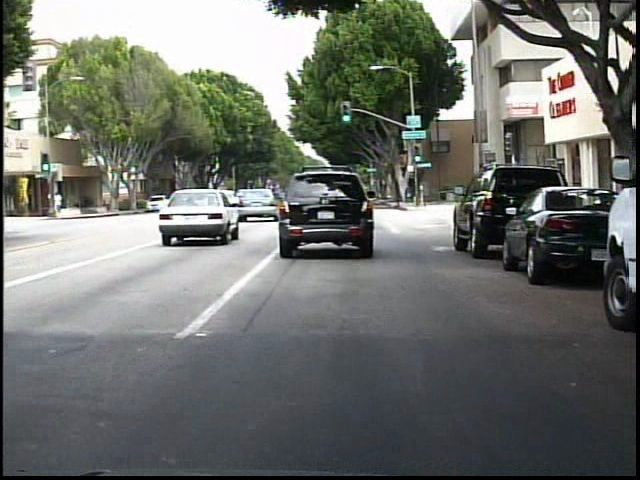person: (57, 189, 68, 217)
